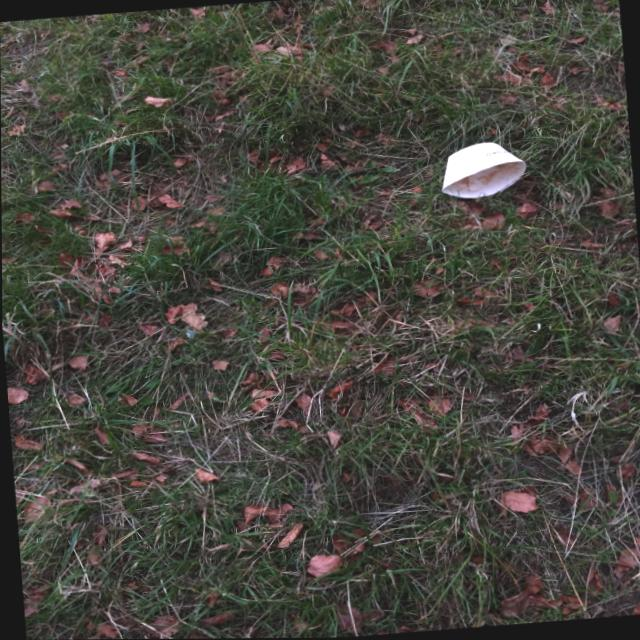Paper: (423, 127, 539, 214)
